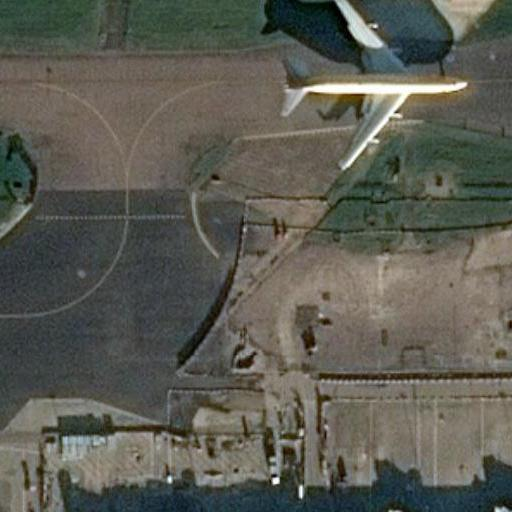Aircraft: (271, 0, 468, 169)
